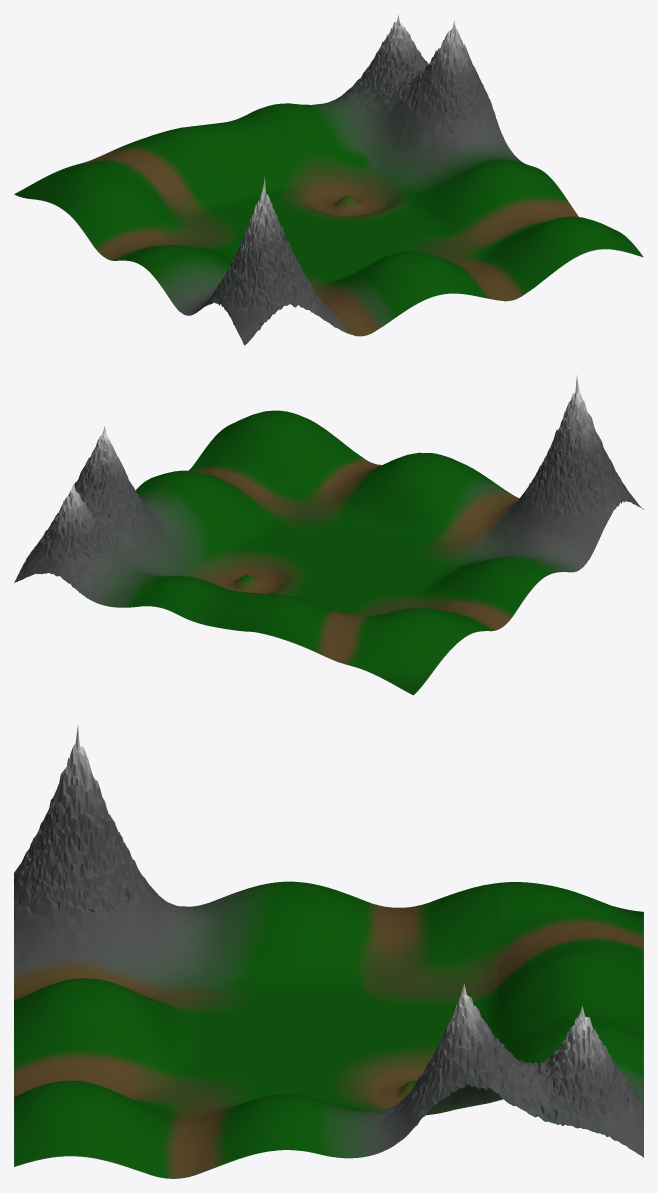
The model's file is Terrain.fbx.
The picture shows the model from 3 angles, top to bottom: view 1: azimuth 30°, elevation 25°; view 2: azimuth 150°, elevation 25°; view 3: azimuth 270°, elevation 25°; orthographic projection. The views are drawn at different scales.
Visible parts, largest first — view 1: Terrain.002, Terrain.007, Terrain, Terrain.008, Terrain.009, Terrain.001, Terrain.004, Terrain.003, Terrain.005, Terrain.006, Terrain.011, Terrain.012 (+2 smaller); view 2: Terrain.007, Terrain.002, Terrain.008, Terrain, Terrain.009, Terrain.005, Terrain.004, Terrain.003, Terrain.006, Terrain.001, Terrain.010, Terrain.014 (+2 smaller); view 3: Terrain.008, Terrain.007, Terrain.002, Terrain.004, Terrain, Terrain.005, Terrain.009, Terrain.006, Terrain.001, Terrain.003, Terrain.013, Terrain.010 (+4 smaller).
Part boxes in pixels (bbox=[...]): Terrain.002: bbox=[324, 14, 523, 197]; Terrain.007: bbox=[403, 158, 643, 295]; Terrain: bbox=[14, 122, 267, 212]; Terrain.008: bbox=[176, 177, 362, 345]; Terrain.009: bbox=[310, 251, 485, 335]; Terrain.001: bbox=[224, 103, 367, 179]; Terrain.004: bbox=[88, 216, 231, 307]; Terrain.003: bbox=[268, 151, 425, 228]; Terrain.005: bbox=[200, 202, 372, 282]; Terrain.006: bbox=[326, 210, 453, 262]; Terrain.011: bbox=[67, 185, 176, 237]; Terrain.012: bbox=[156, 180, 288, 224]; Terrain.007: bbox=[135, 410, 365, 549]; Terrain.002: bbox=[14, 426, 222, 606]; Terrain.008: bbox=[457, 375, 643, 571]; Terrain: bbox=[212, 592, 465, 695]; Terrain.009: bbox=[334, 452, 519, 550]; Terrain.005: bbox=[286, 530, 462, 615]; Terrain.004: bbox=[416, 553, 574, 631]; Terrain.003: bbox=[166, 537, 322, 595]; Terrain.006: bbox=[247, 512, 373, 567]; Terrain.001: bbox=[112, 574, 244, 626]; Terrain.010: bbox=[403, 552, 486, 599]; Terrain.014: bbox=[298, 486, 359, 520]; Terrain.008: bbox=[14, 725, 200, 994]; Terrain.007: bbox=[14, 1080, 341, 1178]; Terrain.002: bbox=[341, 984, 643, 1158]; Terrain.004: bbox=[201, 881, 442, 972]; Terrain: bbox=[498, 882, 643, 1039]; Terrain.005: bbox=[201, 990, 442, 1049]; Terrain.009: bbox=[14, 978, 200, 1076]; Terrain.006: bbox=[201, 1049, 341, 1100]; Terrain.001: bbox=[499, 999, 643, 1091]; Terrain.003: bbox=[341, 1049, 464, 1115]; Terrain.013: bbox=[14, 1048, 129, 1097]; Terrain.010: bbox=[201, 964, 365, 990].
Bounding box in the file's own units: 20000 × 8225 × 20000.
